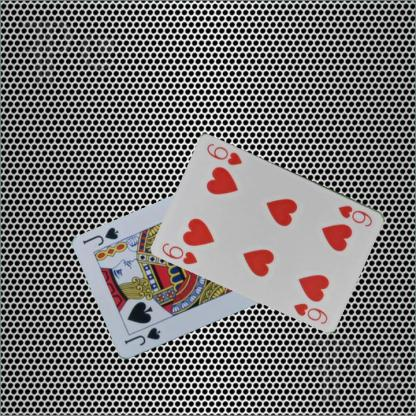6h: (160, 240, 200, 266), (336, 202, 374, 228)
Js: (121, 325, 162, 348)
